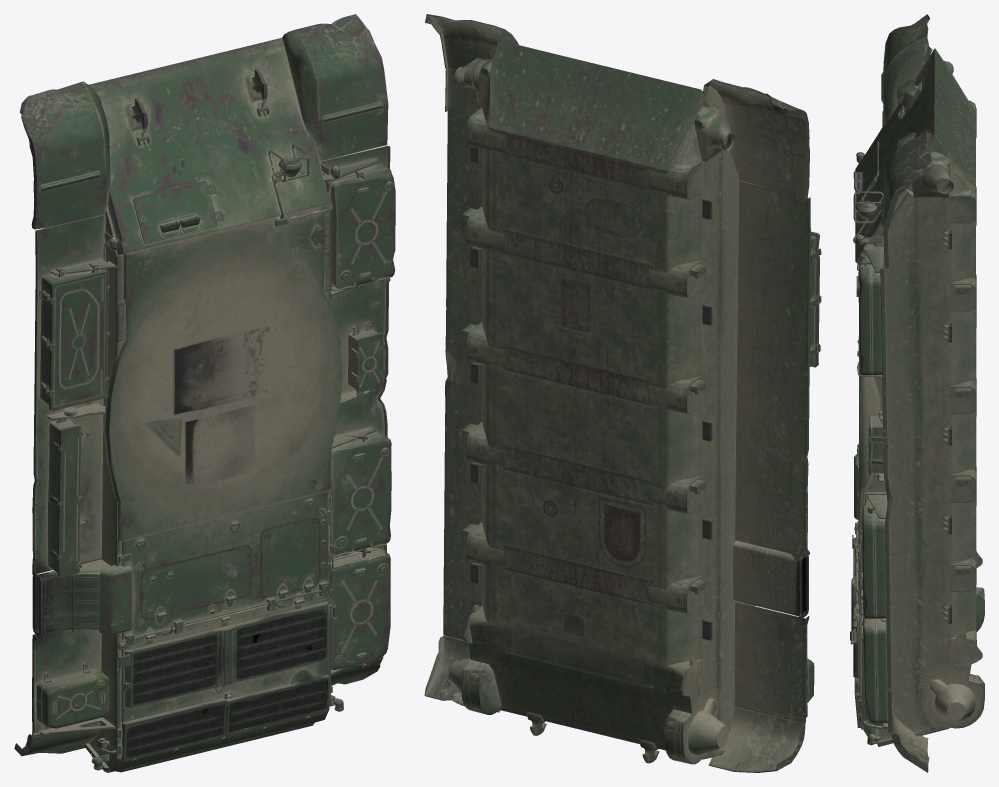
File: Hull.glb
3 renders of one model, left to right at view 1: azimuth 30°, elevation 25°; view 2: azimuth 150°, elevation 25°; view 3: azimuth 270°, elevation 25°, orthographic. The views are drawn at different scales.
Visible parts, largest first — view 1: set_0_group_0; view 2: set_0_group_0; view 3: set_0_group_0.
Part boxes in pixels (x1,y1,x2,y2): set_0_group_0: (14,14,395,772); set_0_group_0: (424,14,821,772); set_0_group_0: (850,14,984,772).
Size of the model in its own units: 3.02 by 5.49 by 1.09.
Materials: 1 (1 with a texture image).
